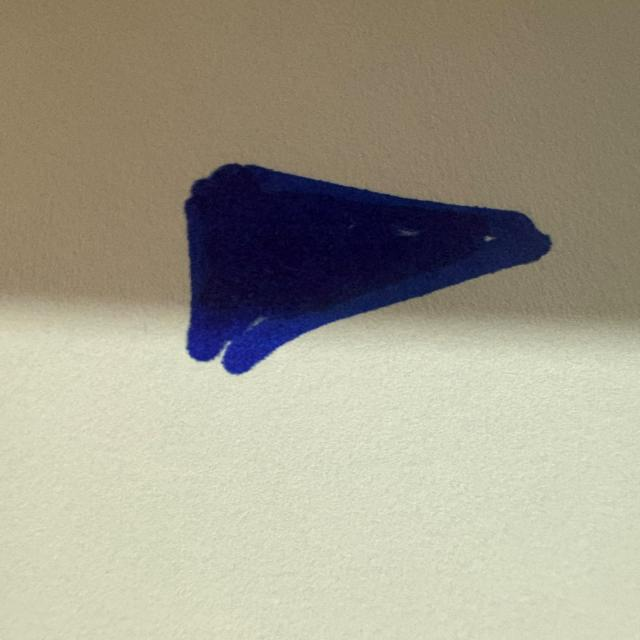Triangle: (185, 164, 551, 374)
